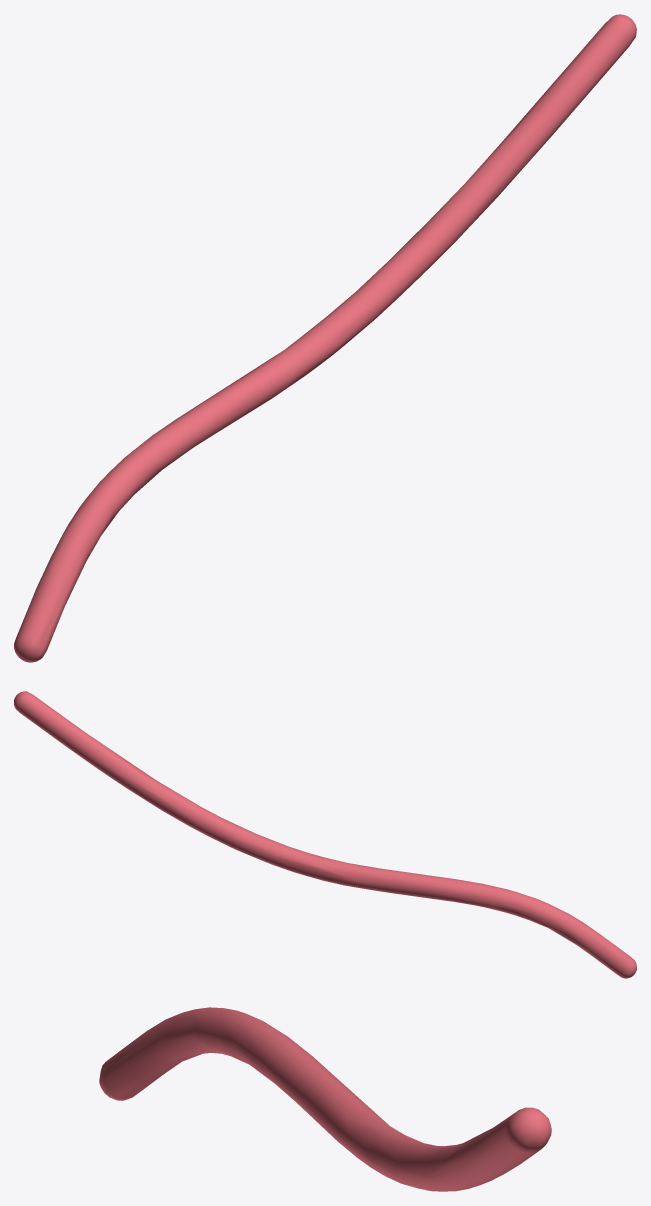
Rendered from fma44499_fj2160.glb.
The picture shows the model from 3 angles, top to bottom: view 1: azimuth 30°, elevation 25°; view 2: azimuth 150°, elevation 25°; view 3: azimuth 270°, elevation 25°; orthographic projection. The views are drawn at different scales.
Visible parts, largest first — view 1: FMA44499_FJ2160; view 2: FMA44499_FJ2160; view 3: FMA44499_FJ2160.
Part boxes in pixels (x1,y1,x2,y2): FMA44499_FJ2160: (14, 14, 636, 662); FMA44499_FJ2160: (14, 691, 636, 978); FMA44499_FJ2160: (99, 1007, 551, 1191).
Size of the model in its own units: 0.0467 by 0.0205 by 0.0177.
